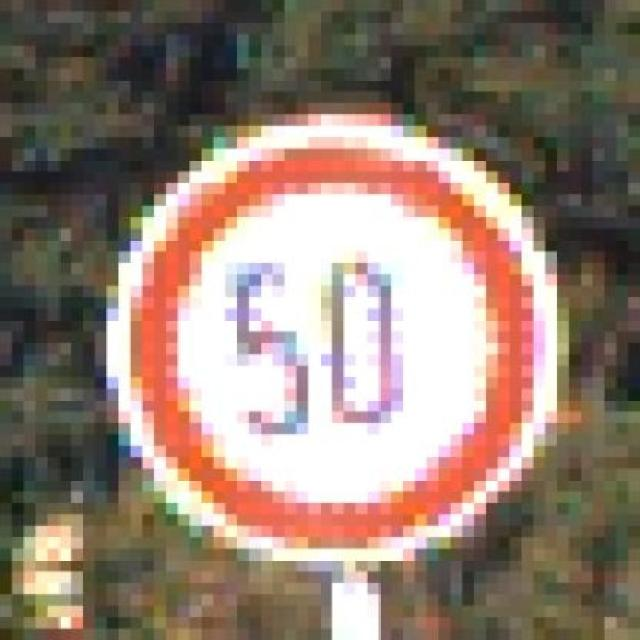forb_speed_over_50: (125, 129, 546, 560)
